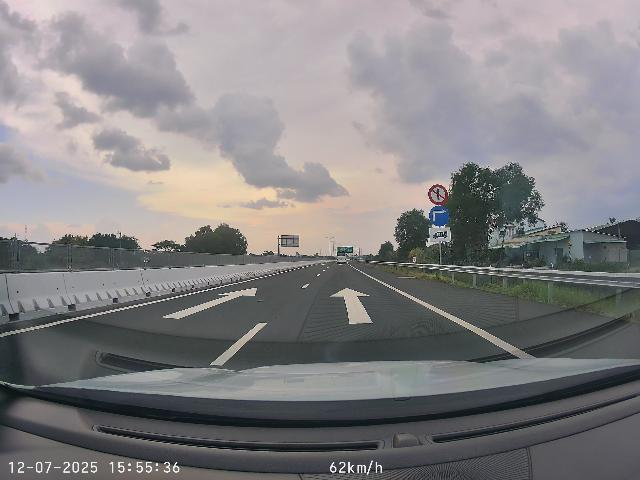136-cam-di-thang: (428, 184, 448, 205)
301d-cac-xe-chi-duoc-re-phai-2: (429, 206, 450, 227)
